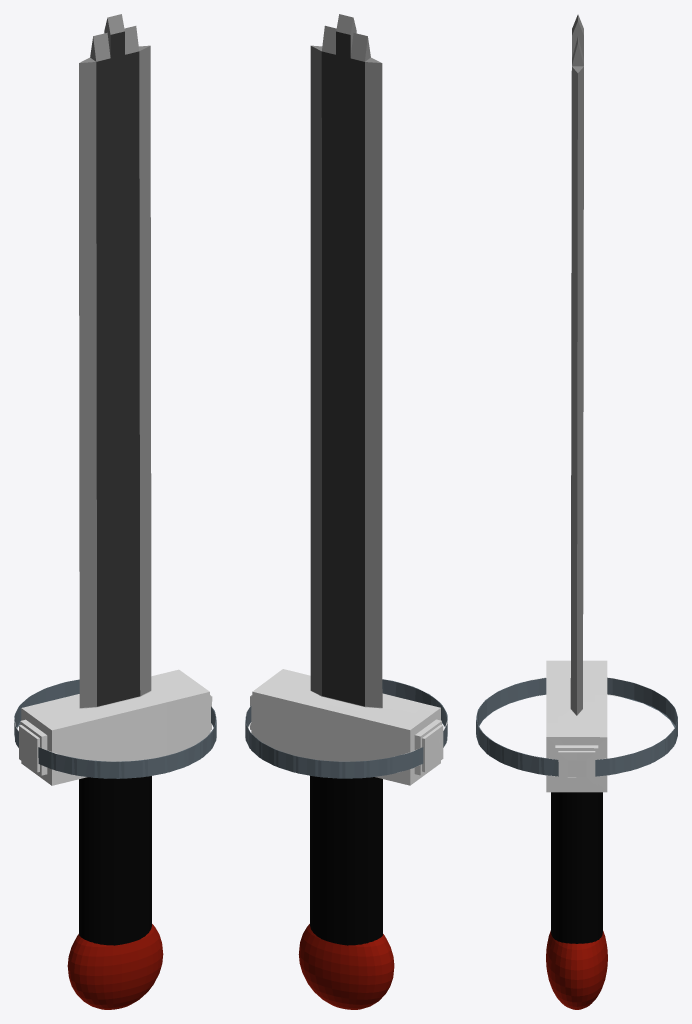
The model's file is sword.fbx.
The picture shows the model from 3 angles, left to right: view 1: azimuth 30°, elevation 25°; view 2: azimuth 150°, elevation 25°; view 3: azimuth 270°, elevation 25°; orthographic projection.
Visible parts, largest first — view 1: Cube, Cylinder, Sphere; view 2: Cube, Cylinder, Sphere; view 3: Cube, Cylinder, Sphere.
Boxes of the visible parts, x1=… form: Cube: x1=14, y1=14, x2=216, y2=785; Cylinder: x1=79, y1=776, x2=151, y2=945; Sphere: x1=67, y1=924, x2=163, y2=1009; Cube: x1=245, y1=14, x2=447, y2=785; Cylinder: x1=310, y1=775, x2=382, y2=945; Sphere: x1=298, y1=924, x2=394, y2=1009; Cube: x1=476, y1=14, x2=677, y2=792; Cylinder: x1=551, y1=792, x2=602, y2=943; Sphere: x1=546, y1=930, x2=607, y2=1009.
Size of the model in its own units: 101 by 545 by 101.
